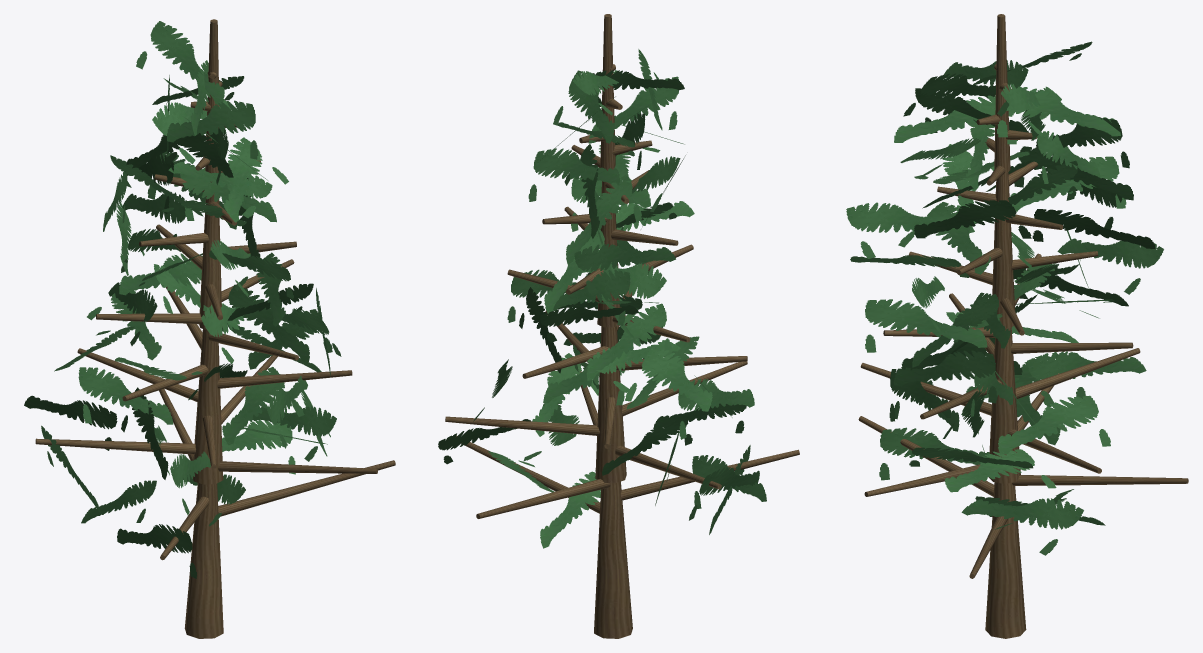
3 views of the same model, side by side, from view 1: azimuth 30°, elevation 25°; view 2: azimuth 150°, elevation 25°; view 3: azimuth 270°, elevation 25° (orthographic).
Parts seen in each view (by area): view 1: pine-needle, pine-bark; view 2: pine-needle, pine-bark; view 3: pine-needle, pine-bark.
Boxes of the visible parts, x1=… form: pine-needle: x1=24, y1=21, x2=341, y2=578; pine-bark: x1=35, y1=19, x2=395, y2=638; pine-needle: x1=438, y1=49, x2=766, y2=548; pine-bark: x1=445, y1=14, x2=799, y2=638; pine-needle: x1=846, y1=41, x2=1163, y2=555; pine-bark: x1=858, y1=14, x2=1188, y2=638.
Bounding box in the file's own units: 5.5 × 10.01 × 5.28.
2 materials, 2 textured.
